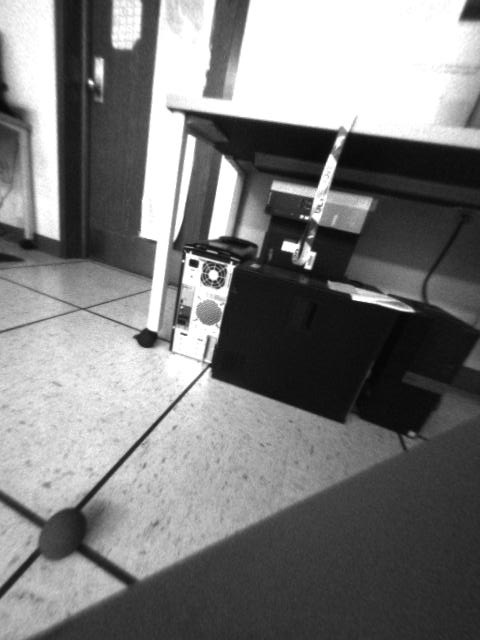dogtoy: (25, 503, 103, 566)
